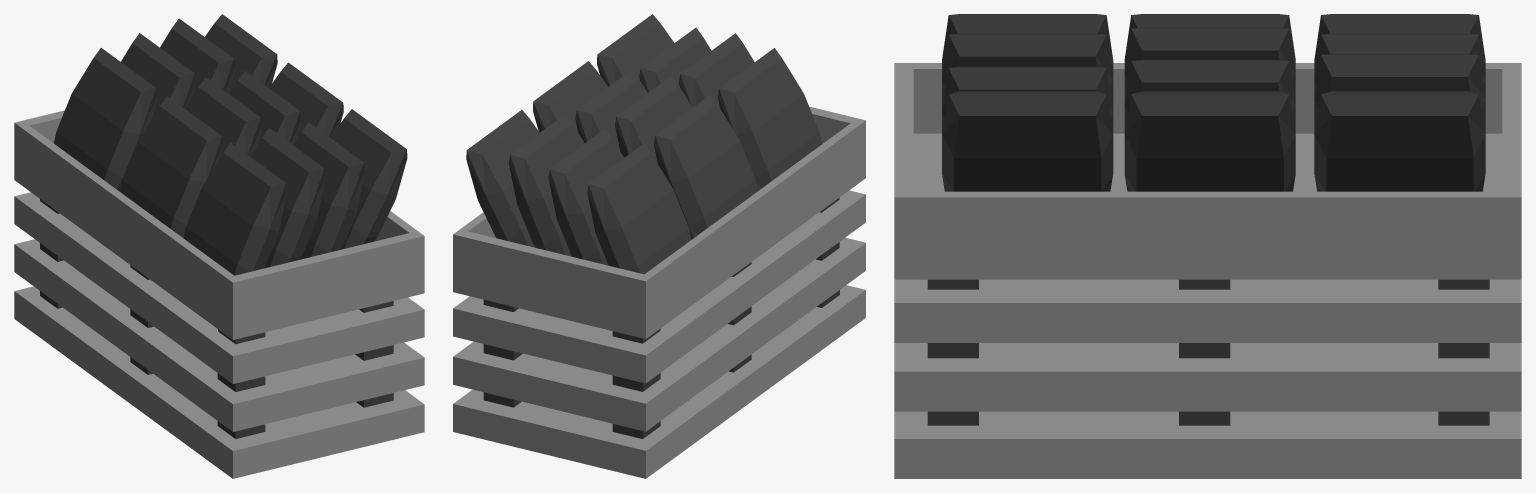
Rendered from food_stack_D.FBX.
3 renders of one model, left to right at view 1: azimuth 30°, elevation 25°; view 2: azimuth 150°, elevation 25°; view 3: azimuth 270°, elevation 25°, orthographic. The views are drawn at different scales.
Parts seen in each view (by area): view 1: food_stack_D; view 2: food_stack_D; view 3: food_stack_D.
Boxes of the visible parts, left/top/right/bottom form: food_stack_D: left=14, top=14, right=424, bottom=478; food_stack_D: left=453, top=14, right=865, bottom=478; food_stack_D: left=894, top=14, right=1521, bottom=478.
Bounding box in the file's own units: 40.91 × 54.53 × 78.58.
